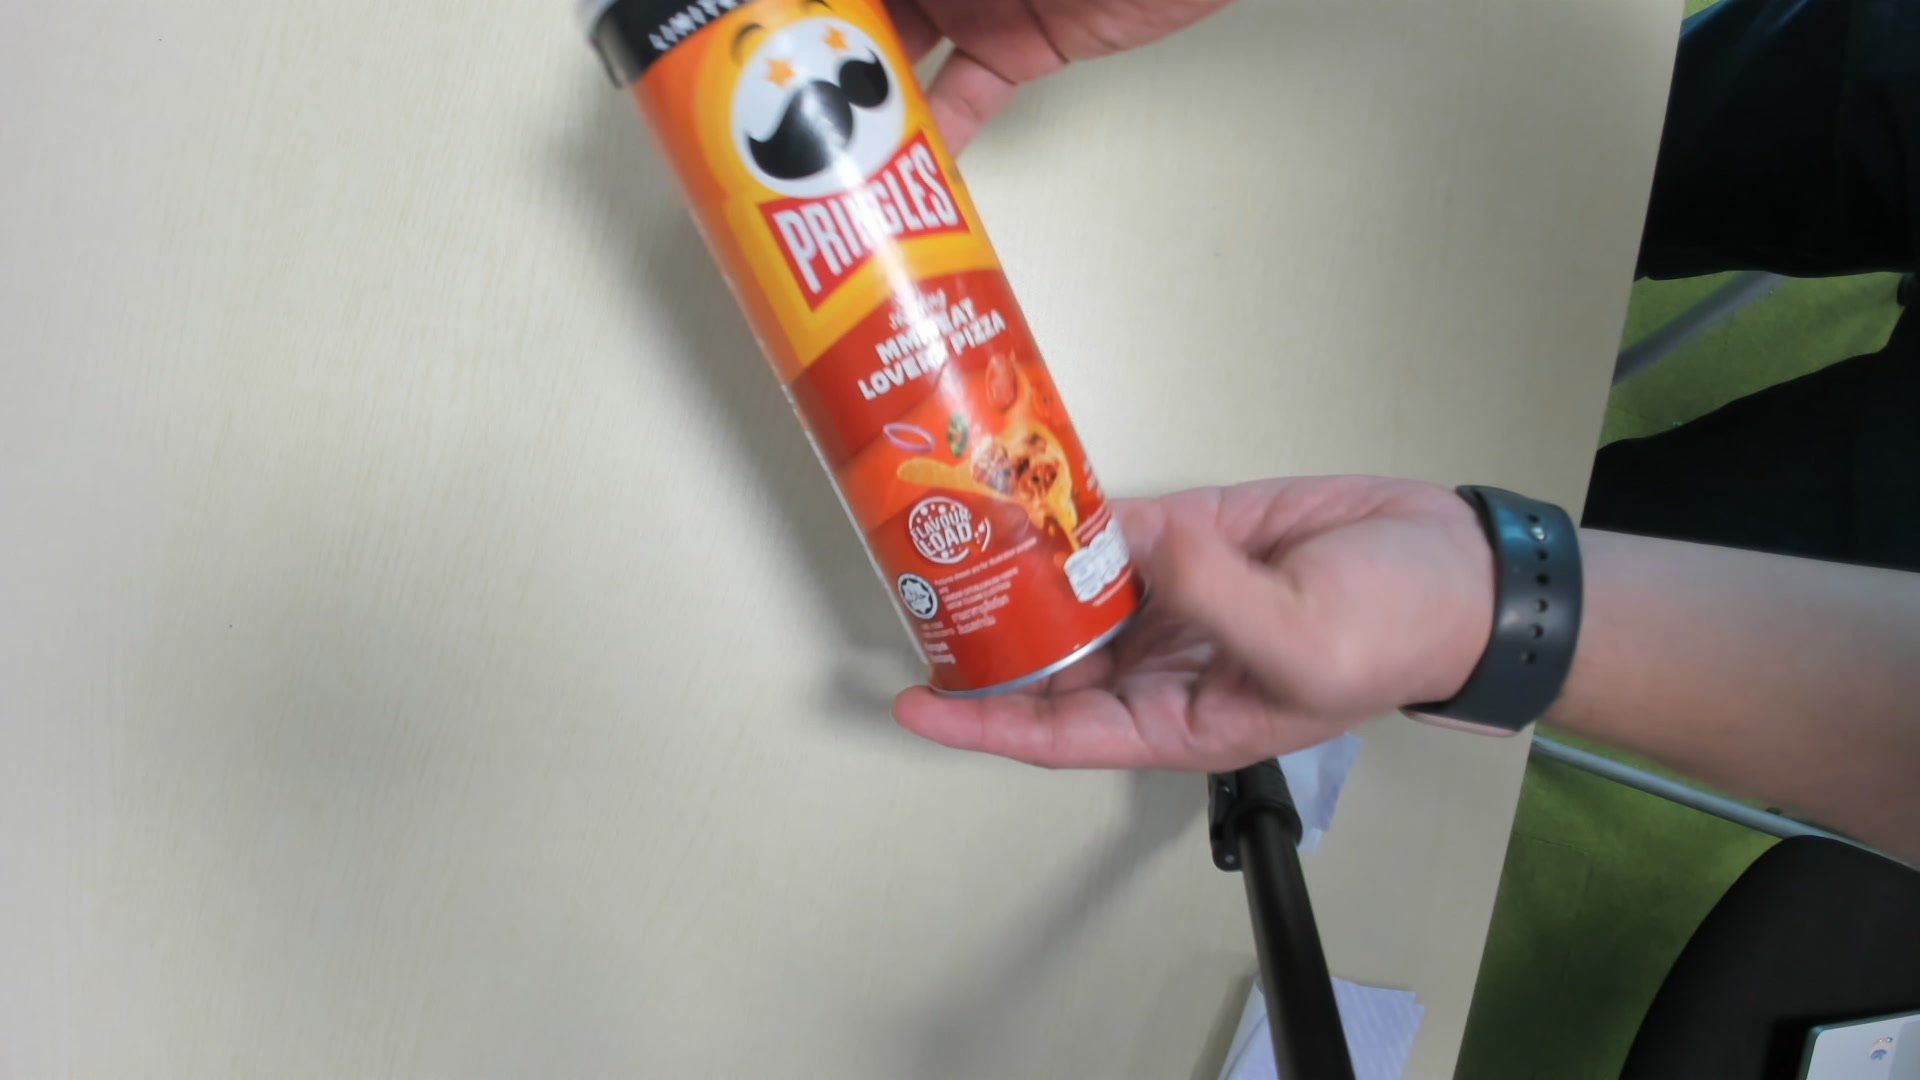PotatoChipsKeropok_0-99g_Halal_NonHealthy: (580, 1, 1149, 702)
